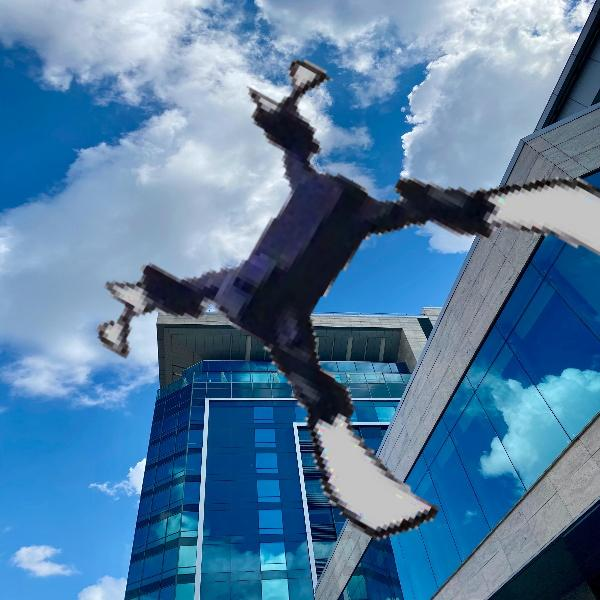drone: (125, 46, 595, 516)
